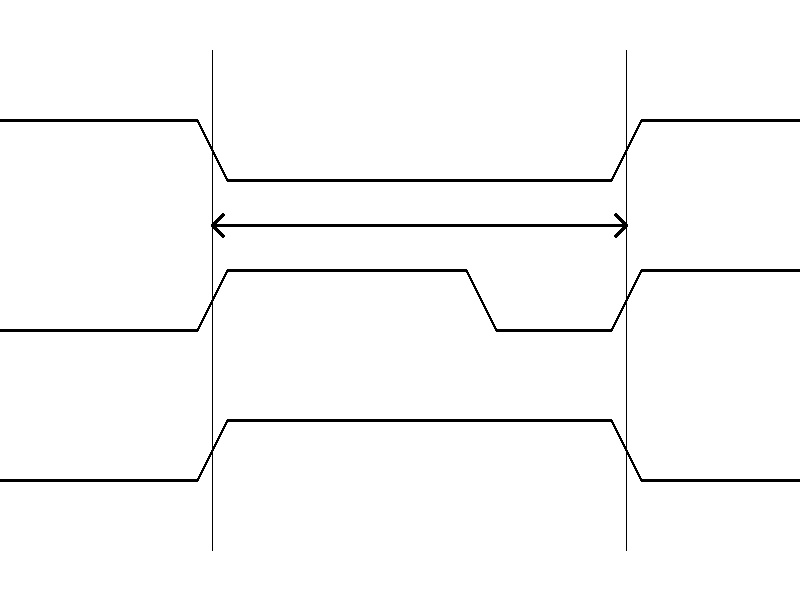double_arrow: (212, 210, 626, 240)
